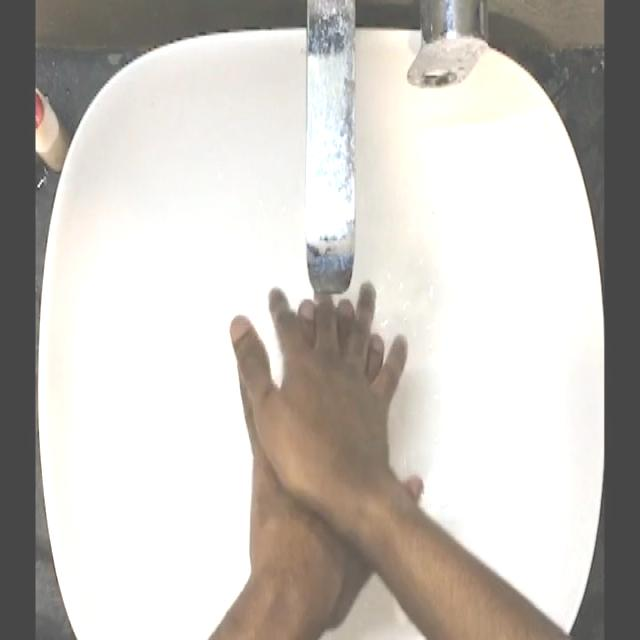step_2: (220, 255, 429, 557)
